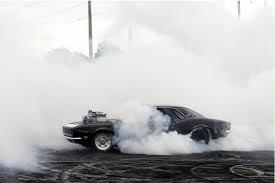smoke: (0, 0, 275, 177)
